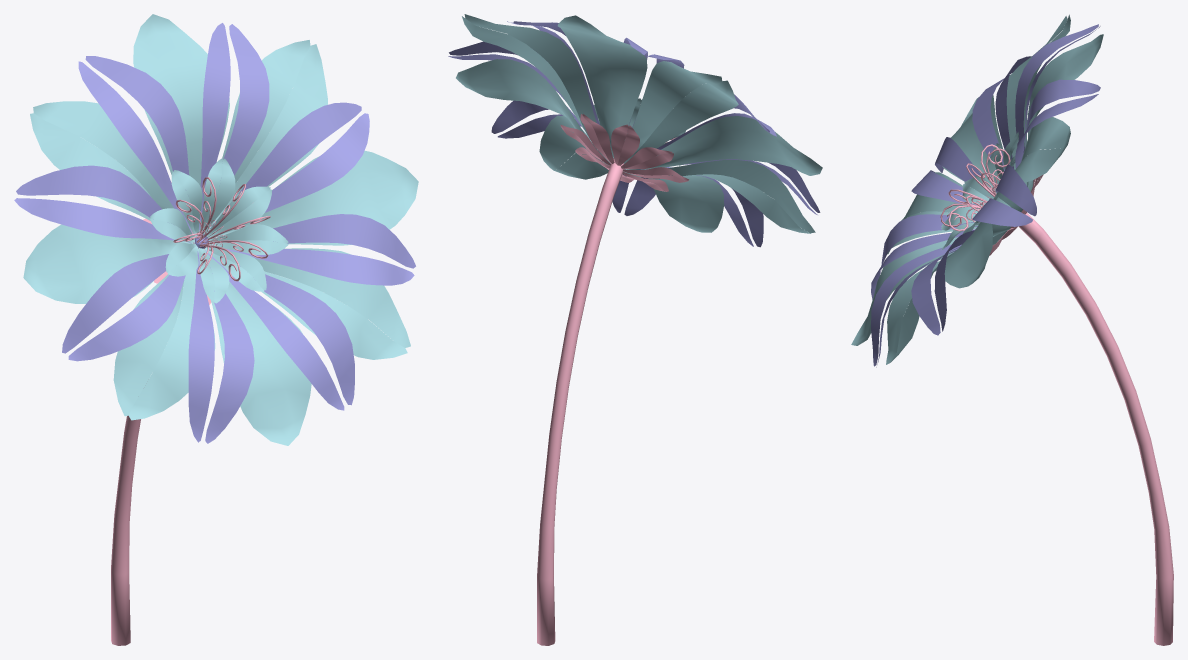
Rendered from tree_medium.fbx.
3 views of the same model, side by side, from view 1: azimuth 30°, elevation 25°; view 2: azimuth 150°, elevation 25°; view 3: azimuth 270°, elevation 25° (orthographic). The views are drawn at different scales.
Parts seen in each view (by area): view 1: Tree_Flower_Medium; view 2: Tree_Flower_Medium; view 3: Tree_Flower_Medium.
Boxes of the visible parts, x1,y1,x2,y2 form: Tree_Flower_Medium: (14,14,418,645); Tree_Flower_Medium: (448,14,822,645); Tree_Flower_Medium: (851,14,1173,645).
Size of the model in its own units: 564 by 889 by 428.
